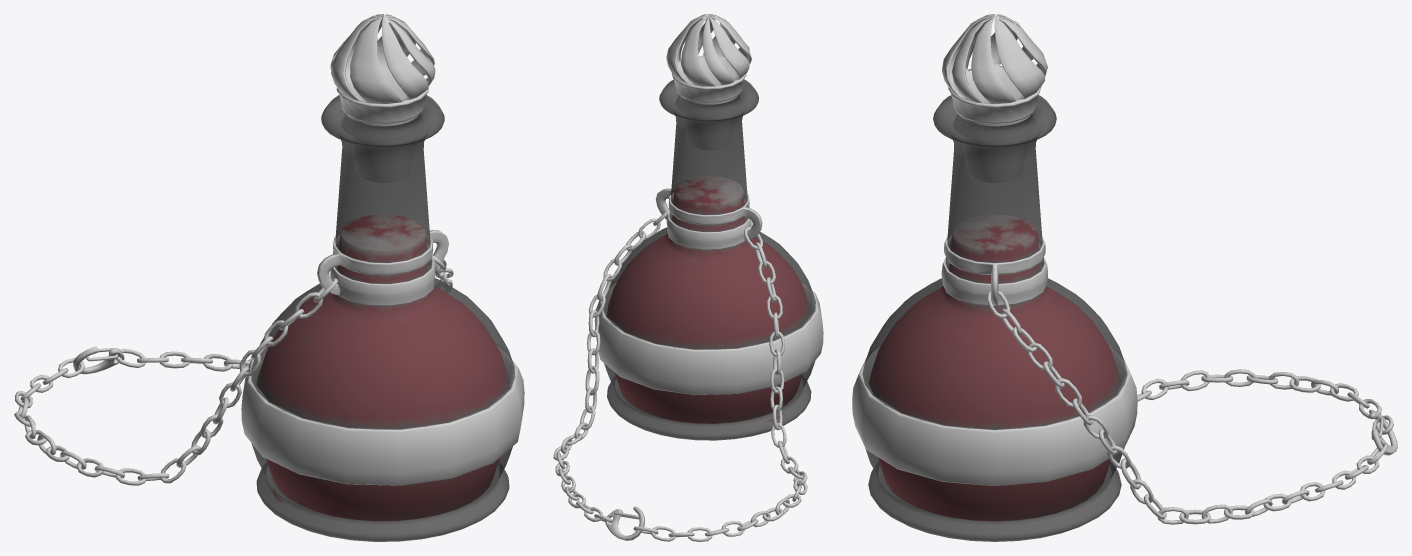
3 views of the same model, side by side, from view 1: azimuth 30°, elevation 25°; view 2: azimuth 150°, elevation 25°; view 3: azimuth 270°, elevation 25° (orthographic). The views are drawn at different scales.
Visible parts, largest first — view 1: vessel, potion, ornament, bung, chain; view 2: vessel, potion, ornament, chain, bung; view 3: vessel, potion, ornament, bung, chain.
Boxes of the visible parts, box(x1,y1,x2,y2) form: vessel: box(251, 95, 514, 541); potion: box(257, 215, 508, 520); ornament: box(241, 230, 524, 485); bung: box(330, 14, 435, 183); chain: box(14, 255, 453, 485); vessel: box(603, 79, 815, 440); potion: box(607, 176, 810, 423); ornament: box(594, 188, 823, 395); chain: box(553, 208, 807, 541); bung: box(666, 14, 751, 150); vessel: box(862, 95, 1127, 541); potion: box(869, 215, 1120, 521); ornament: box(852, 234, 1137, 486); bung: box(942, 14, 1047, 183); chain: box(986, 291, 1397, 524).
Size of the model in its own units: 1.46 by 1.94 by 2.
